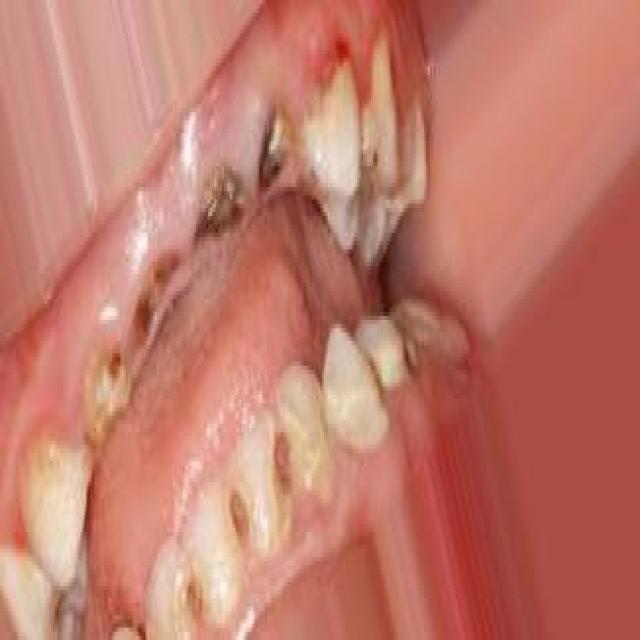caries: (385, 283, 480, 401), (262, 412, 328, 541), (70, 318, 133, 437), (189, 157, 249, 254), (131, 243, 185, 343), (256, 88, 297, 218), (213, 476, 268, 572), (172, 556, 215, 640)
